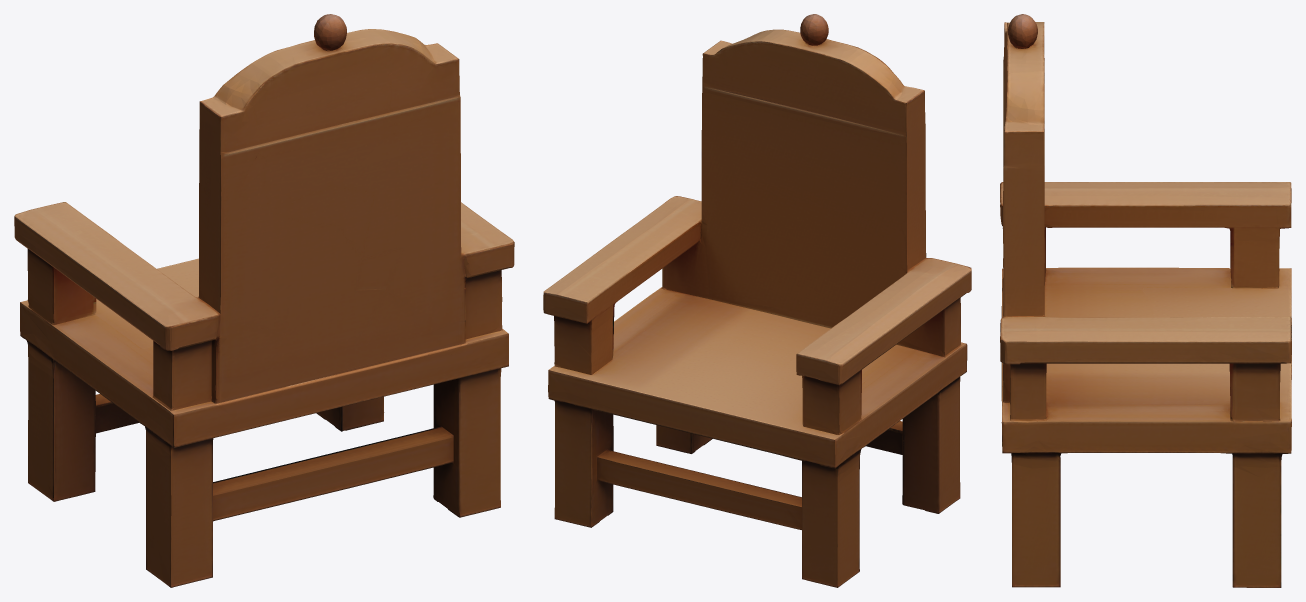
Rendered from sofa_7.glb.
3 renders of one model, left to right at view 1: azimuth 30°, elevation 25°; view 2: azimuth 150°, elevation 25°; view 3: azimuth 270°, elevation 25°, orthographic. The views are drawn at different scales.
Parts seen in each view (by area): view 1: world; view 2: world; view 3: world.
Boxes of the visible parts, left/top/right/bottom form: world: left=14, top=14, right=514, bottom=587; world: left=543, top=14, right=971, bottom=587; world: left=1000, top=14, right=1291, bottom=587.
Size of the model in its own units: 0.5189 by 0.7492 by 0.3989.
1 material, 1 textured.
